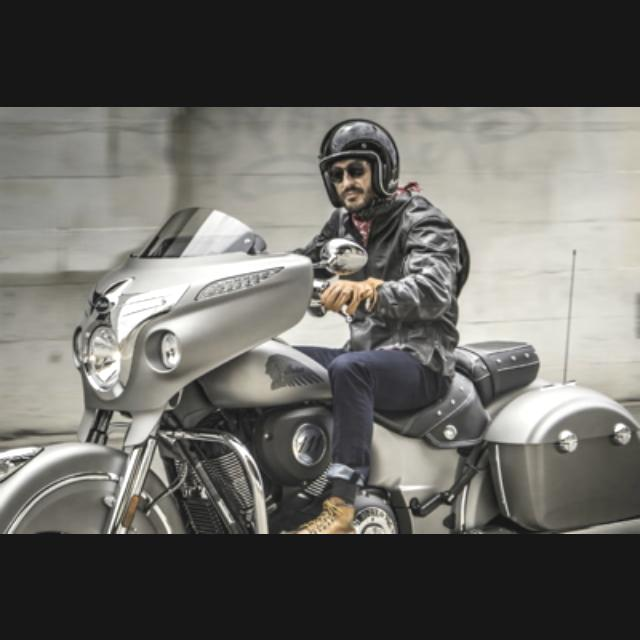With Helmet: (309, 116, 403, 207)
